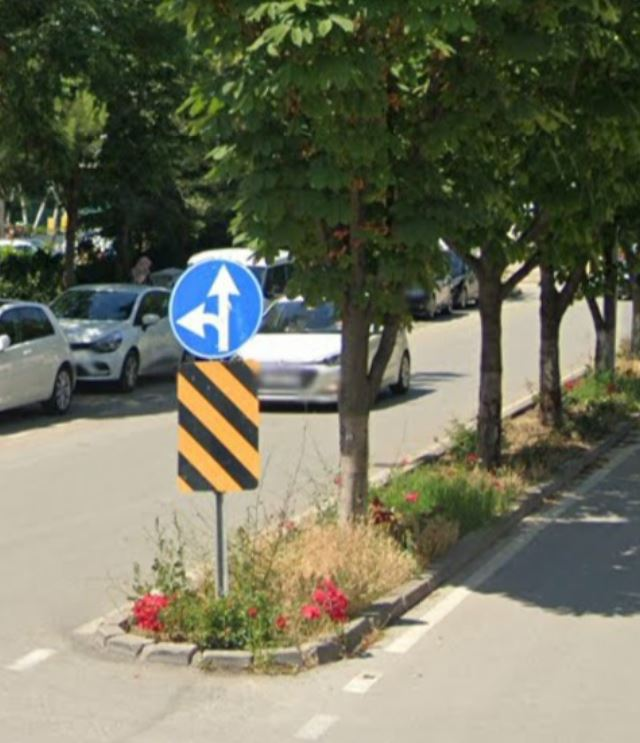ileri ve Sola Mecburi Don: (169, 259, 261, 358)
